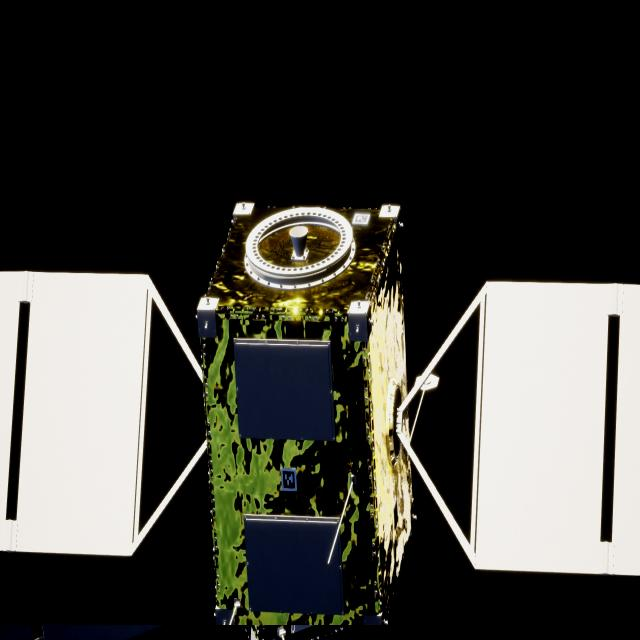satellite: (0, 202, 640, 627)
